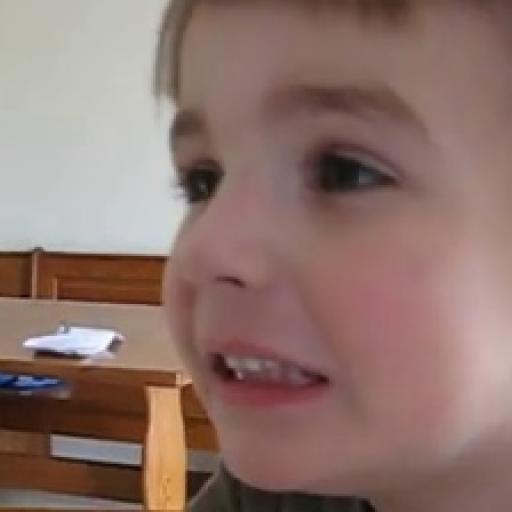Autism: (156, 18, 512, 512)
